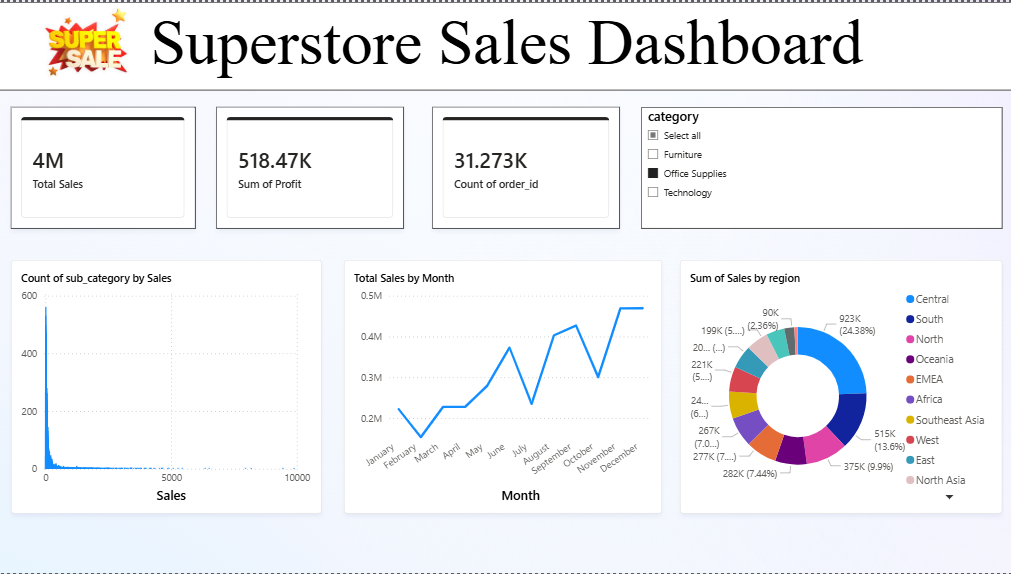

The dashboard page shown, as its layout file describes it:
{"tool":"powerbi","page":{"name":"Page 1","canvas":[1280,720],"ordinal":0},"visuals":[{"type":"textbox","box":[0,0,1279.4,111.5],"z":0},{"type":"cardVisual","fields":{"Data":["SuperStoreOrders.Total Sales"]},"box":[15.1,132.3,232.4,153.1],"z":1000},{"type":"cardVisual","fields":{"Data":["Sum(SuperStoreOrders.Profit)"]},"box":[274,132.3,236.2,153.1],"z":2000},{"type":"cardVisual","fields":{"Data":["CountNonNull(SuperStoreOrders.order_id)"]},"box":[546.1,132.3,236.2,153.1],"z":3000},{"type":"clusteredColumnChart","fields":{"Category":["SuperStoreOrders.Sales"],"Y":["CountNonNull(SuperStoreOrders.sub_category)"]},"box":[15.1,325,391.2,319.4],"z":4000},{"type":"lineChart","fields":{"Category":["SuperStoreOrders.Order Date.Variation.Date Hierarchy.Month"],"Y":["SuperStoreOrders.Total Sales"]},"box":[434.6,325,400.6,319.4],"z":5000},{"type":"donutChart","fields":{"Category":["SuperStoreOrders.region"],"Y":["Sum(SuperStoreOrders.Sales)"]},"box":[858,325,406.3,319.4],"z":6000},{"type":"slicer","fields":{"Values":["SuperStoreOrders.category"]},"box":[808.8,132.3,455.4,153.1],"z":7000},{"type":"image","box":[43.5,7.6,134.2,96.4],"z":8000}]}

Visuals, with their boxes in screenshot pixels (x1, y1, x2, y2), scaled from the page's 1280x720 canvas onto the 1011x574 screenshot:
textbox: 0/0/1010/89
cardVisual - SuperStoreOrders.Total Sales: 12/105/195/228
cardVisual - Sum(SuperStoreOrders.Profit): 216/105/403/228
cardVisual - CountNonNull(SuperStoreOrders.order_id): 431/105/618/228
clusteredColumnChart - SuperStoreOrders.Sales x CountNonNull(SuperStoreOrders.sub_category): 12/259/321/514
lineChart - SuperStoreOrders.Order Date.Variation.Date Hierarchy.Month x SuperStoreOrders.Total Sales: 343/259/660/514
donutChart - SuperStoreOrders.region x Sum(SuperStoreOrders.Sales): 678/259/999/514
slicer - SuperStoreOrders.category: 639/105/999/228
image: 34/6/140/83
